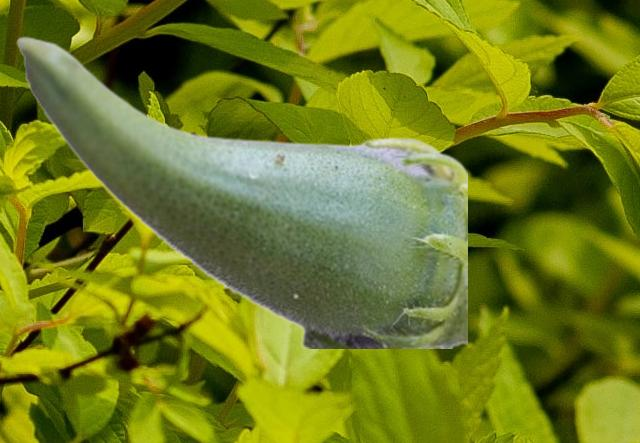okra: (15, 35, 466, 347)
